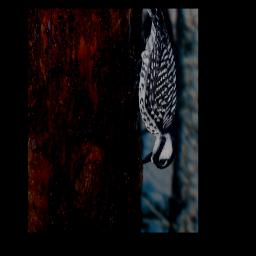Woodpecker: (129, 9, 180, 175)
